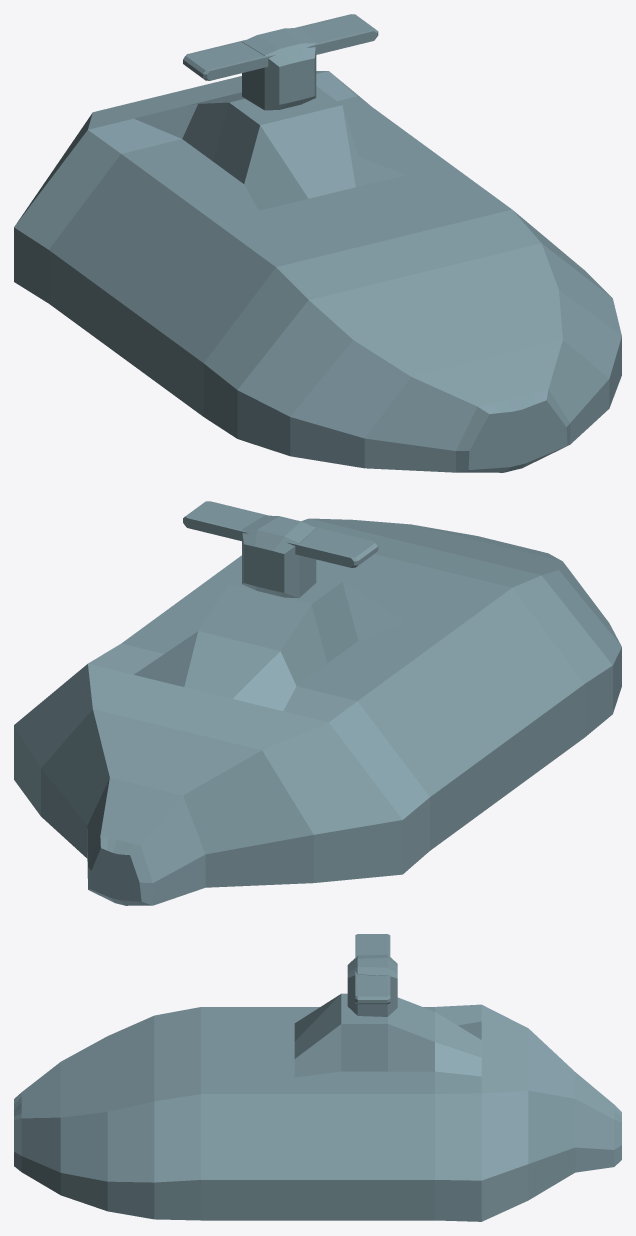
Rendered from ballard_light_a.glb.
3 renders of one model, top to bottom at view 1: azimuth 30°, elevation 25°; view 2: azimuth 150°, elevation 25°; view 3: azimuth 270°, elevation 25°, orthographic. The views are drawn at different scales.
Visible parts, largest first — view 1: ballard_light_a; view 2: ballard_light_a; view 3: ballard_light_a.
Part boxes in pixels (left/top/right/bottom): ballard_light_a: left=14, top=14, right=621, bottom=472; ballard_light_a: left=14, top=501, right=621, bottom=905; ballard_light_a: left=14, top=934, right=621, bottom=1221.
Bounding box in the file's own units: 2.9 × 1.86 × 5.2.
